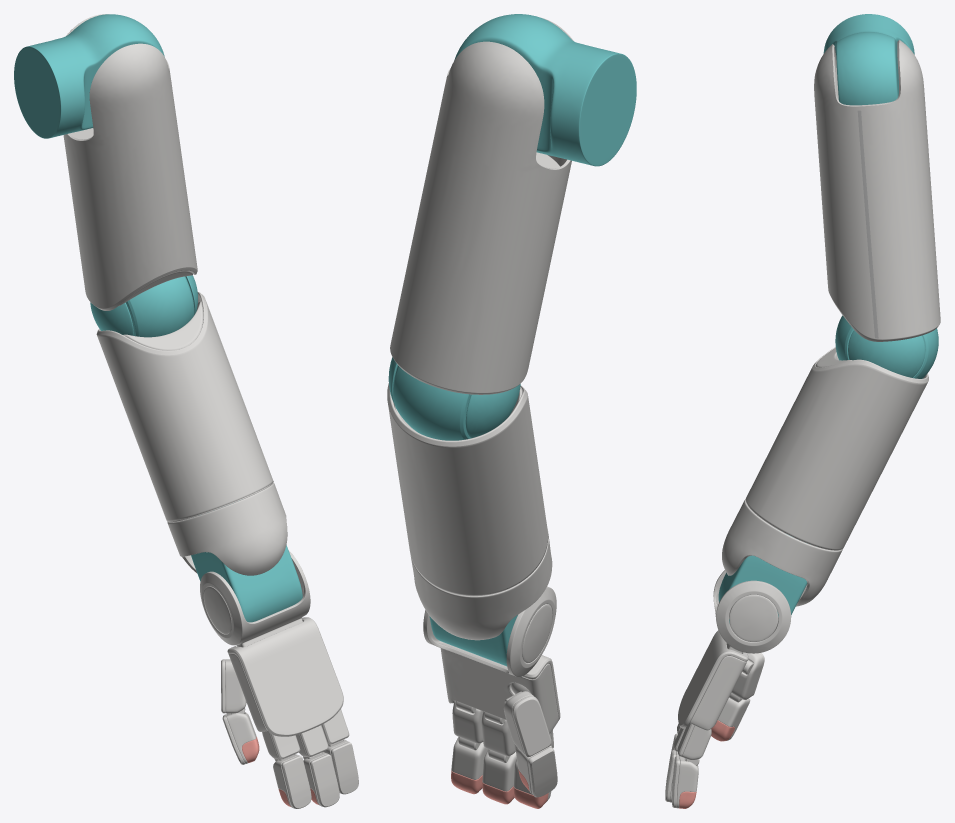
The model's file is arm.glb.
The picture shows the model from 3 angles, left to right: view 1: azimuth 30°, elevation 25°; view 2: azimuth 150°, elevation 25°; view 3: azimuth 270°, elevation 25°; orthographic projection. The views are drawn at different scales.
Parts seen in each view (by area): view 1: arm_bicep, arm_forearm, arm_shoulder, palm_back, arm_base, wrist, wrist_base, arm_joint, arm_forearm_upper, finger_left_02_back, finger_middle_02_back, finger_right_02_back (+6 smaller); view 2: arm_bicep, arm_forearm, arm_shoulder, arm_base, palm, arm_joint, wrist_base, arm_joint_right, finger_thumb_back, wrist, finger_thumb_02_back, wrist_detail (+7 smaller); view 3: arm_bicep, arm_forearm, arm_shoulder, arm_base, wrist_base, arm_joint_left, wrist, palm_back, wrist_detail, palm, arm_joint, finger_thumb (+3 smaller).
Boxes of the visible parts, x1,y1,x2,y2 form: arm_bicep: (63,14,197,310); arm_forearm: (96,292,273,521); arm_shoulder: (14,14,164,138); palm_back: (227,617,343,736); arm_base: (167,482,287,575); wrist: (191,545,302,622); wrist_base: (200,550,310,647); arm_joint: (125,276,194,337); arm_forearm_upper: (123,301,203,350); finger_left_02_back: (281,755,311,808); finger_middle_02_back: (310,754,339,807); finger_right_02_back: (331,742,358,794); arm_bicep: (390,17,573,394); arm_forearm: (387,383,548,596); arm_shoulder: (454,14,636,166); arm_base: (410,530,552,640); palm: (440,648,558,733); arm_joint: (393,365,471,440); wrist_base: (423,586,556,676); arm_joint_right: (465,384,520,438); finger_thumb_back: (512,695,551,757); wrist: (429,615,517,666); finger_thumb_02_back: (528,747,557,797); wrist_detail: (522,604,552,663); arm_bicep: (814,40,940,341); arm_forearm: (745,347,928,550); arm_shoulder: (823,14,914,105); arm_base: (722,499,842,606); wrist_base: (713,570,791,653); arm_joint_left: (848,330,925,377); wrist: (718,534,807,622); palm_back: (678,630,748,728); wrist_detail: (729,594,778,641); palm: (690,656,746,730); arm_joint: (835,315,938,378); finger_thumb: (731,653,762,699).
Size of the model in its own units: 0.3123 by 1 by 0.3507.
